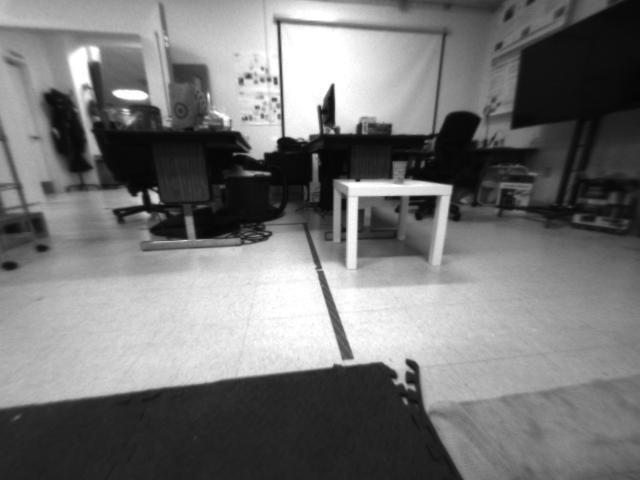coffee_cup: (389, 158, 409, 184)
